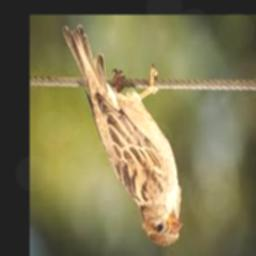Sparrow: (62, 25, 182, 247)
